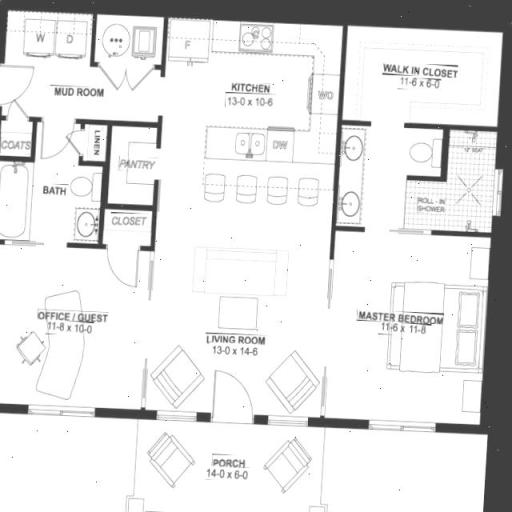Room: (10, 246, 158, 431)
bathroom: (342, 127, 497, 244), (8, 162, 102, 241)
bedroom: (329, 246, 484, 427)
closet: (354, 30, 489, 121)
hall: (172, 157, 324, 442)
kitchen: (166, 27, 333, 149)
